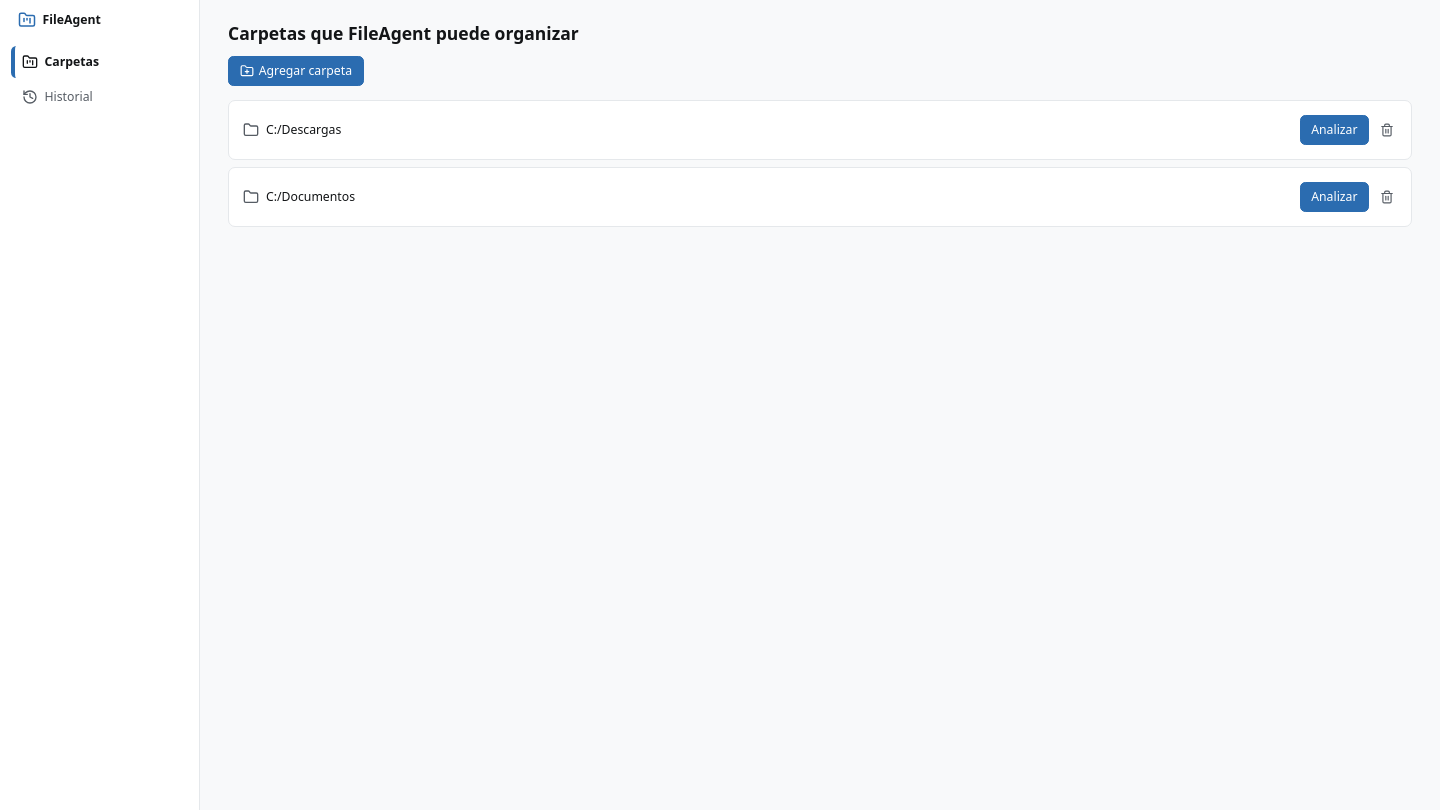
Test: App -- apply completion inbox lifecycle › M3: a completion for Root A arriving while the user has moved on to Root B's Revisar screen is retained, not force-navigated
Note: On Root A's Revisar screen.
Click the button "Analizar" in the row of "C:/Descargas". click: x=1334, y=130
box: [1300,115,1369,145]
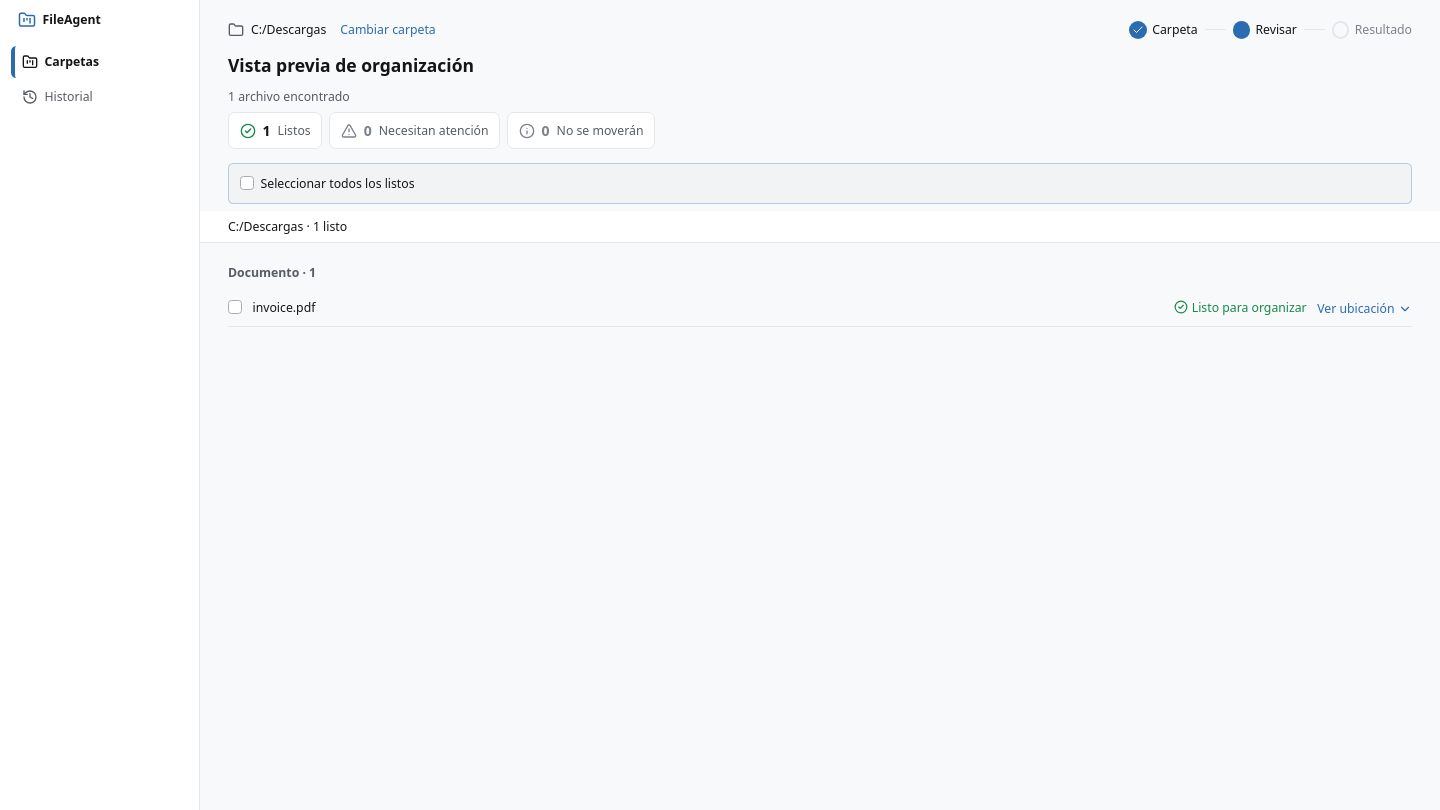
Click the checkbox named "Seleccionar invoice.pdf". click: x=235, y=307
box: [228,300,242,314]
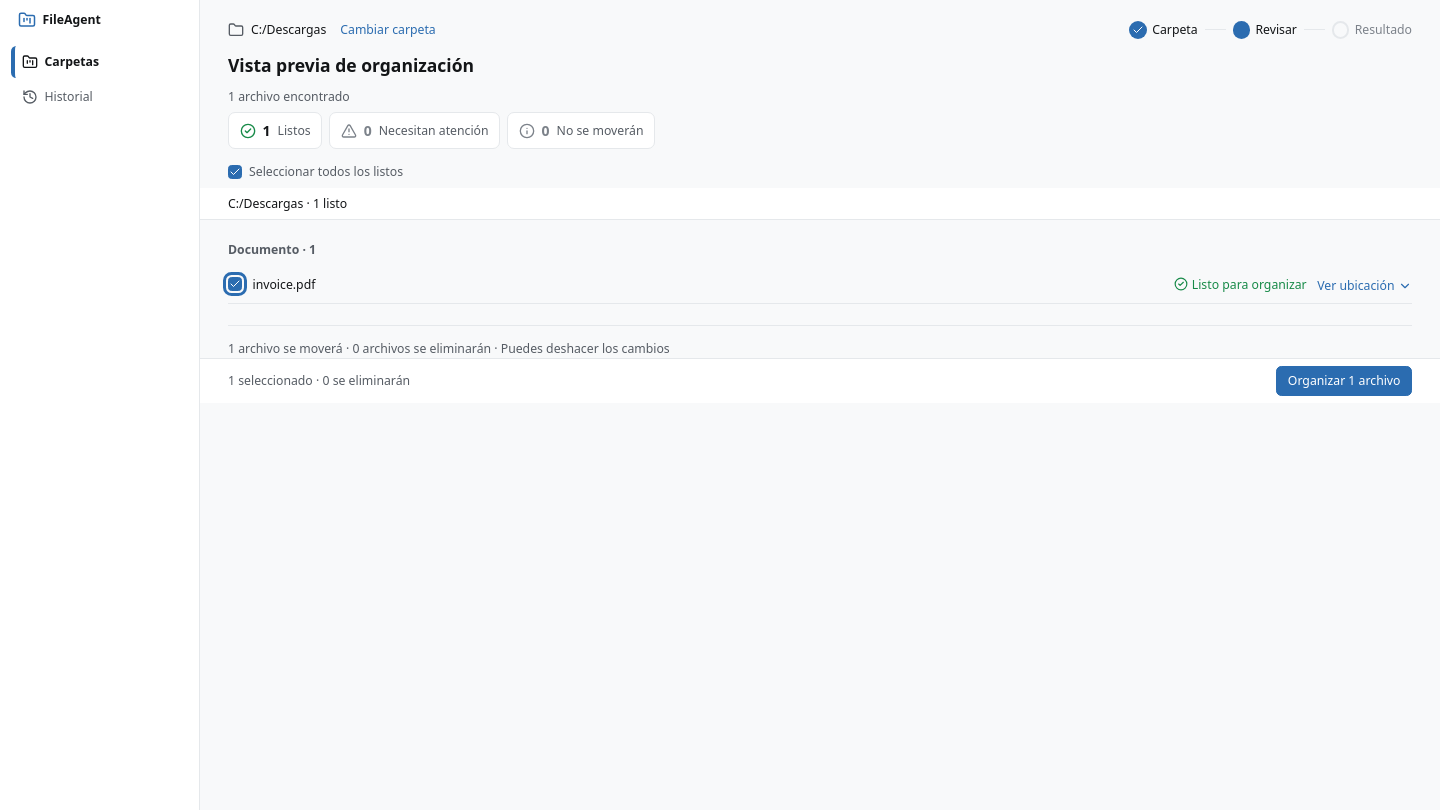
Note: Start apply for Root A -- left unresolved.
Click the button "Organizar 1 archivo". click: x=1344, y=380
box: [1276,366,1412,396]
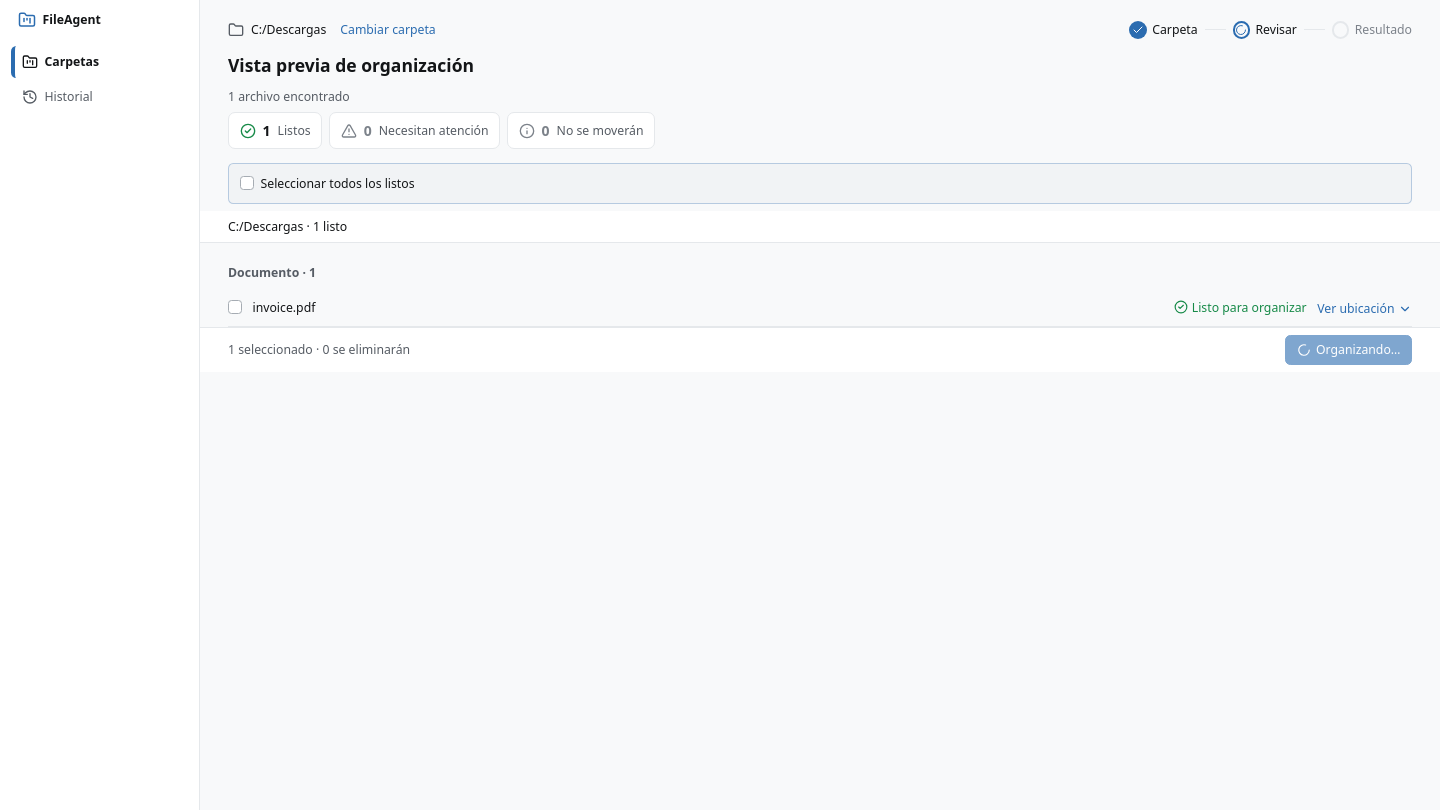
Note: Navigate away to Root B's Plan/Review screen before Root A completes.
Click the button "Carpetas". click: x=100, y=62
box: [10,46,188,78]
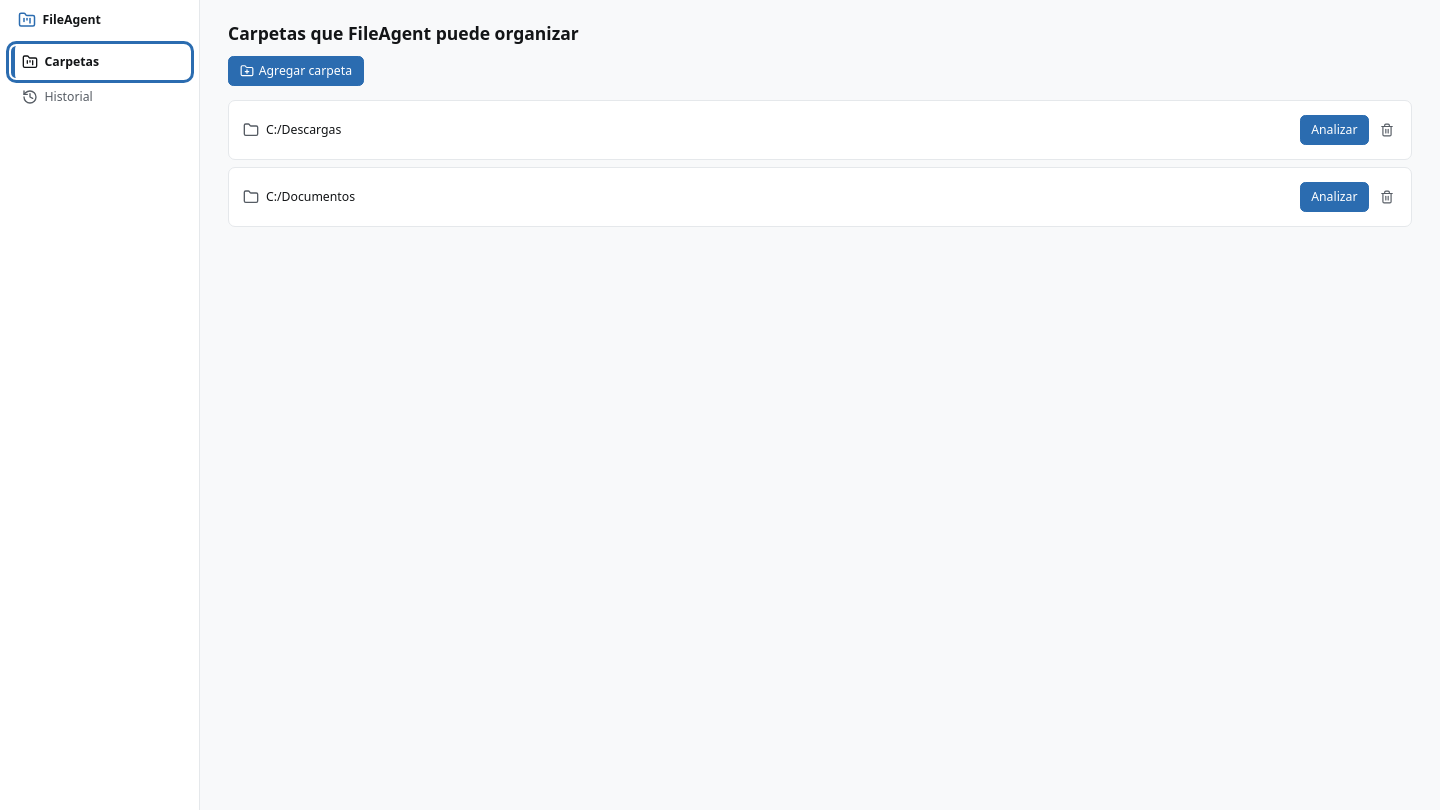
Click the button "Analizar" in the row of "C:/Documentos". click: x=1334, y=197
box: [1300,182,1369,212]
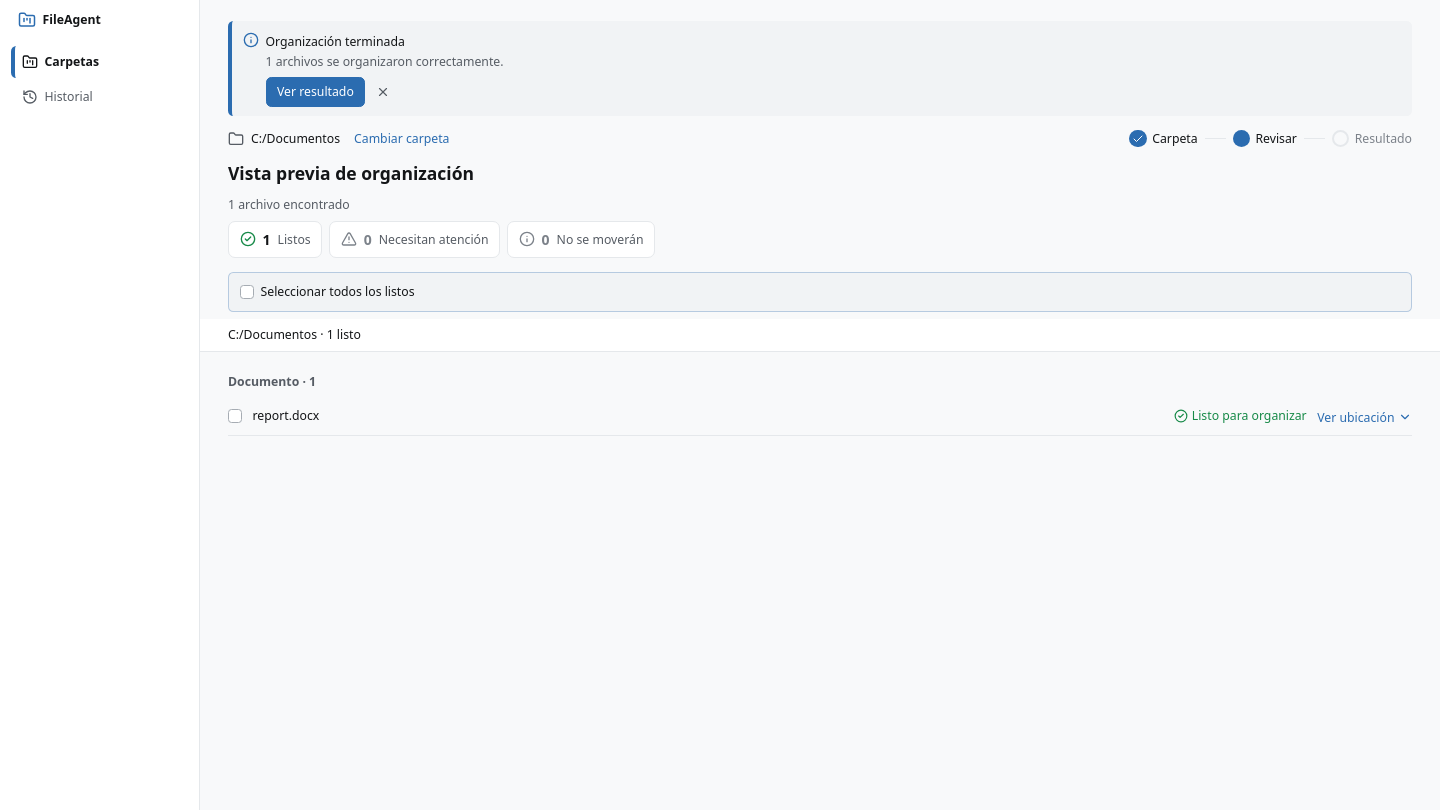
Expected: the element named "Avisos de organización" is shown, [228,21,1412,116]
Expected: the text "report.docx" is shown, [252,407,319,424]
Expected: the text "C:/Documentos" is shown, [251,130,340,147]
